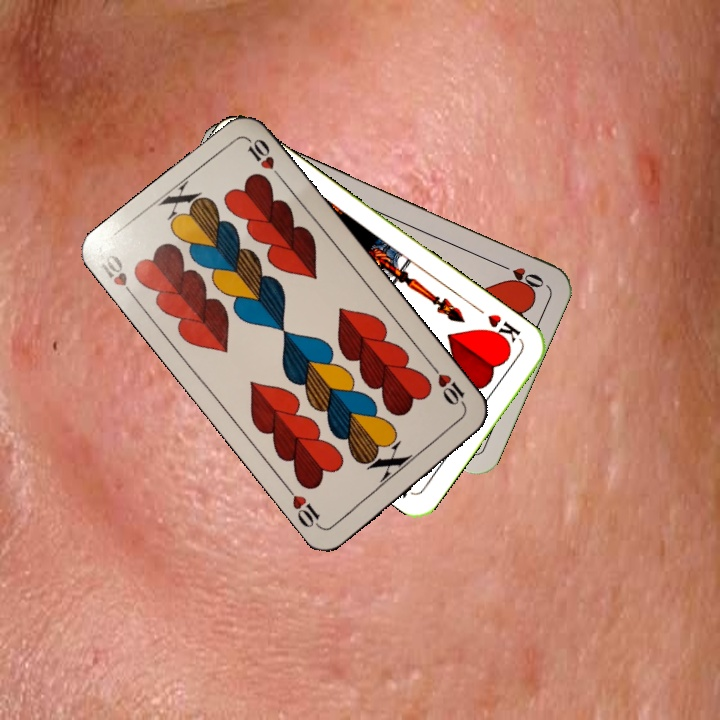H10: (94, 250, 140, 304), (427, 362, 470, 412)
HK: (482, 310, 524, 350)
HO: (491, 258, 547, 292)
